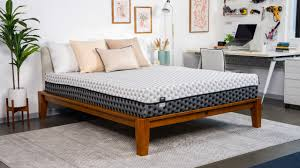bed-matress: (44, 61, 259, 119)
